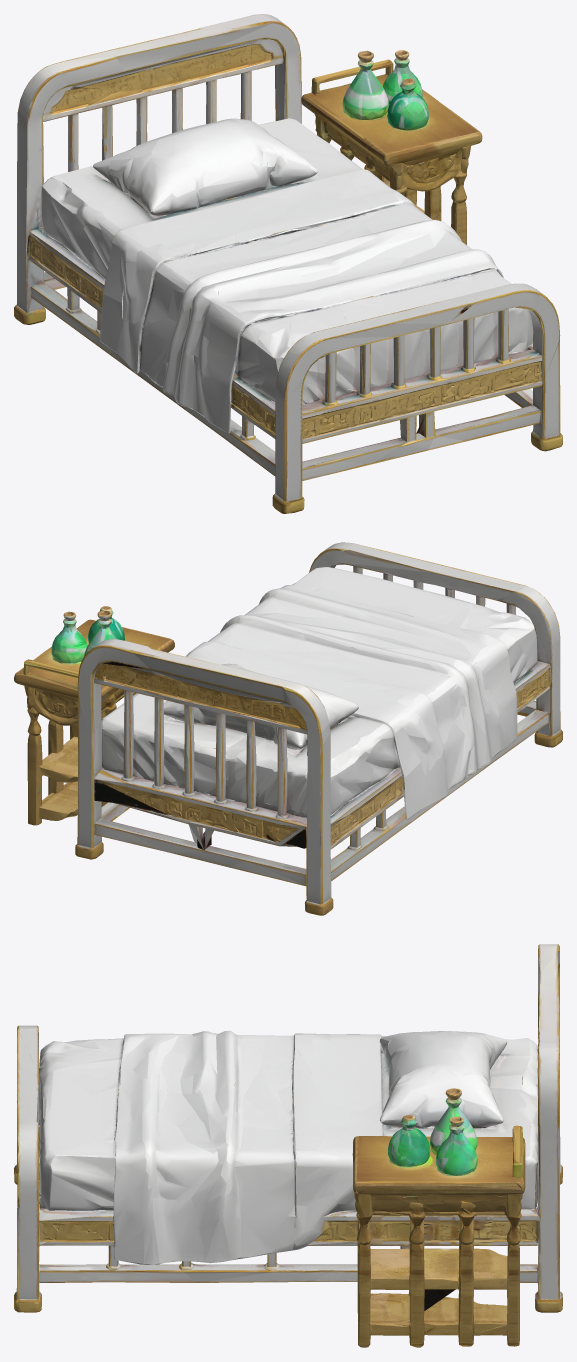
The model's file is et_hospbed.glb.
The picture shows the model from 3 angles, top to bottom: view 1: azimuth 30°, elevation 25°; view 2: azimuth 150°, elevation 25°; view 3: azimuth 270°, elevation 25°; orthographic projection. The views are drawn at different scales.
Size of the model in its own units: 1.52 by 0.9443 by 1.9.
1 material, 1 textured.
